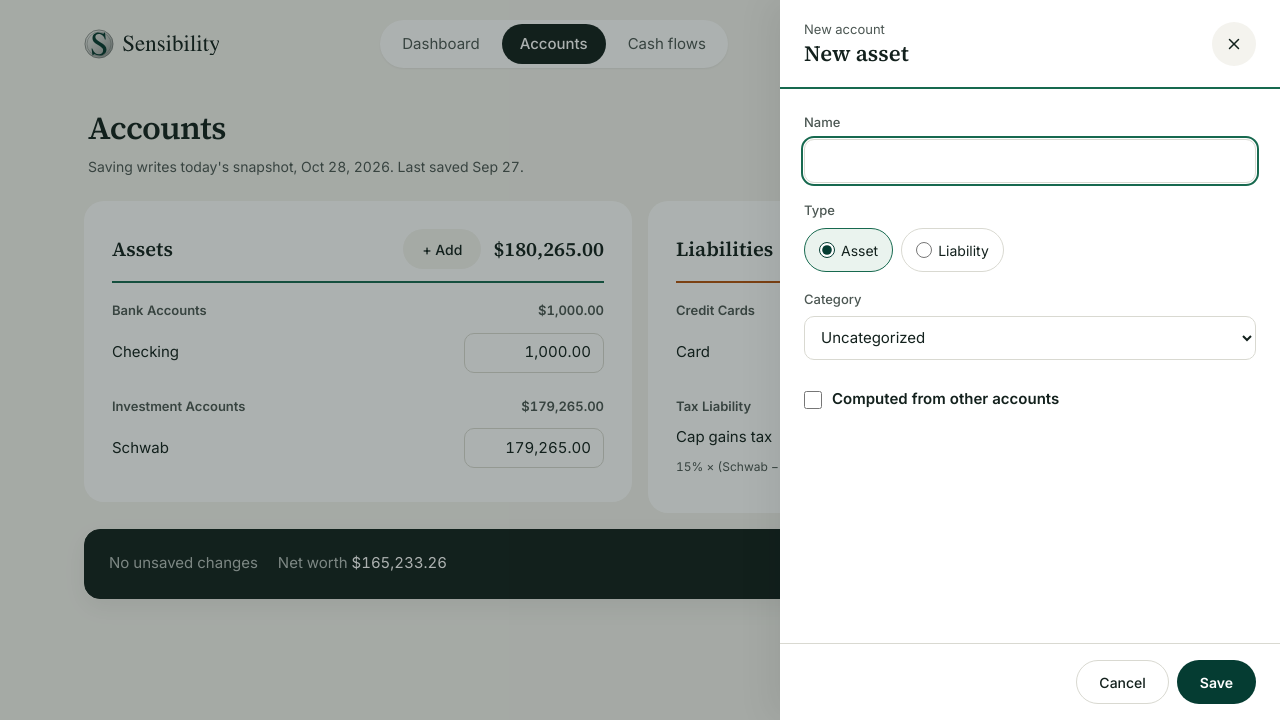
Test: the new account drawer › lists plain, active accounts as inputs, under their type
The image size is (1280, 720).
Check: the dialog is shown, box x1=780 y1=0 x2=1279 y2=719
What coordinates should you click on to do the following:
click the checkbox labelled "Computed from other accounts"
I would click on:
 (813, 400)
Its box is x1=804 y1=390 x2=822 y2=408.
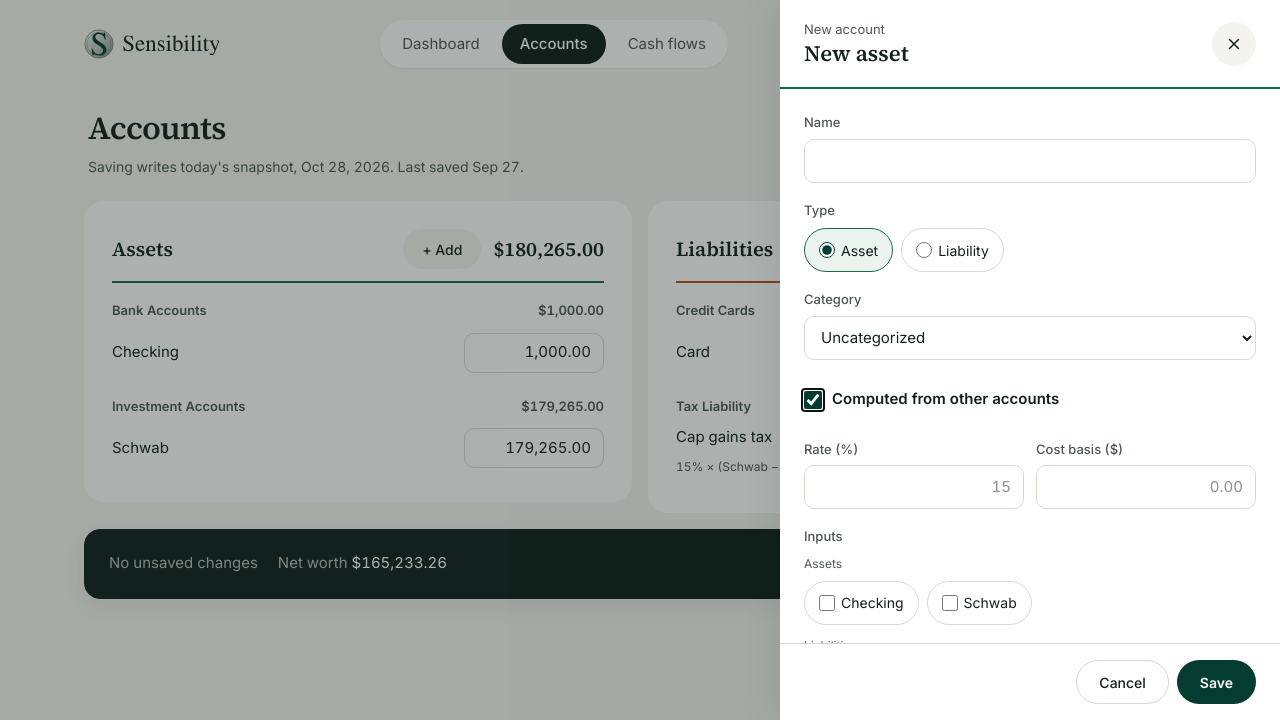
What coordinates should you click on to do the following:
click the checkbox labelled "Computed from other accounts"
I would click on:
 (813, 400)
Its box is x1=804 y1=390 x2=822 y2=408.
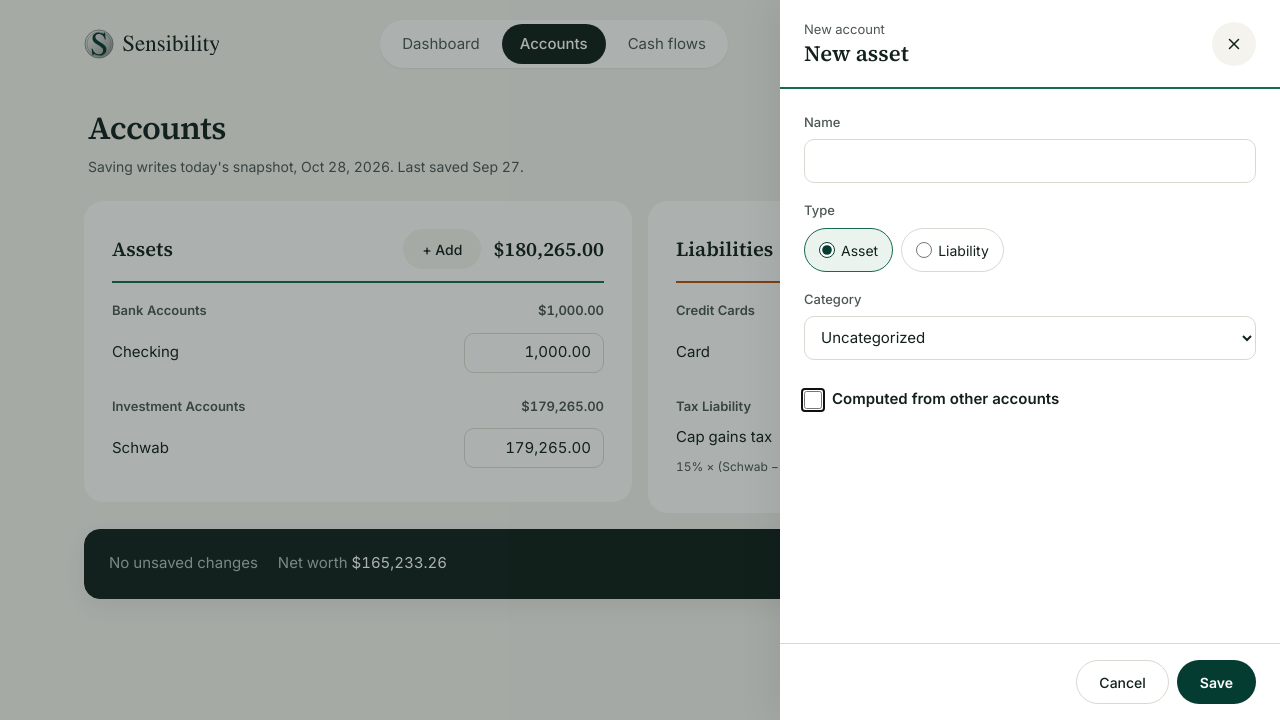
Check: the text "Inputs" is gone
